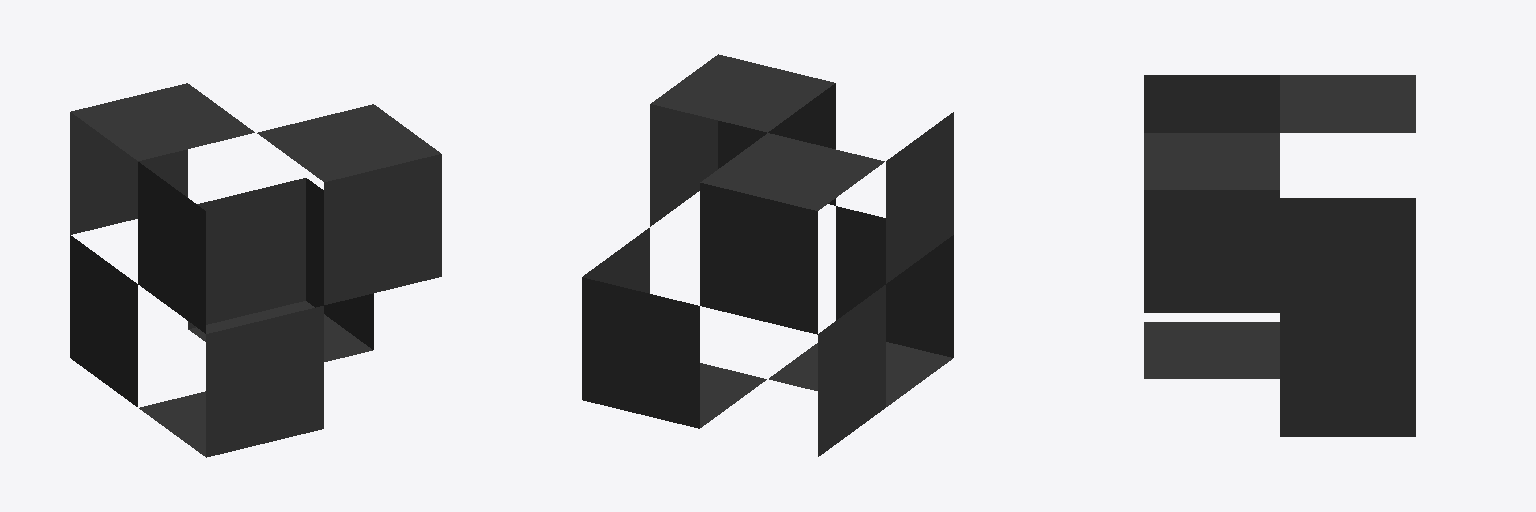
The picture shows the model from 3 angles: view 1: azimuth 30°, elevation 25°; view 2: azimuth 150°, elevation 25°; view 3: azimuth 270°, elevation 25°; orthographic projection.
Parts seen in each view (by area): view 1: Cube; view 2: Cube; view 3: Cube.
Boxes of the visible parts, <box> form: Cube: <box>70,83,441,457</box>; Cube: <box>582,54,953,456</box>; Cube: <box>1144,75,1415,436</box>.
Bounding box in the file's own units: 2 × 2 × 2.
Materials: 1 (1 with a texture image).